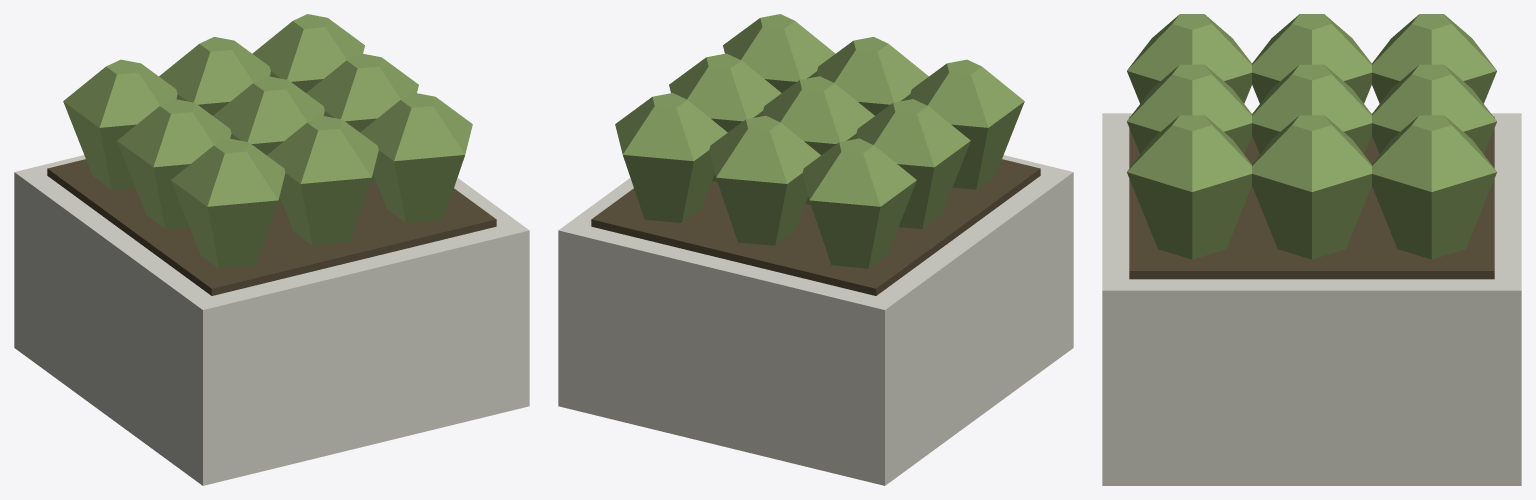
Rendered from planter.glb.
3 renders of one model, left to right at view 1: azimuth 30°, elevation 25°; view 2: azimuth 150°, elevation 25°; view 3: azimuth 270°, elevation 25°, orthographic. The views are drawn at different scales.
Parts seen in each view (by area): view 1: Planter; view 2: Planter; view 3: Planter.
Part boxes in pixels (x1,y1,x2,y2): Planter: [14, 14, 529, 485]; Planter: [558, 14, 1073, 485]; Planter: [1102, 14, 1521, 485].
Bounding box in the file's own units: 1.4 × 1.2 × 1.4.
